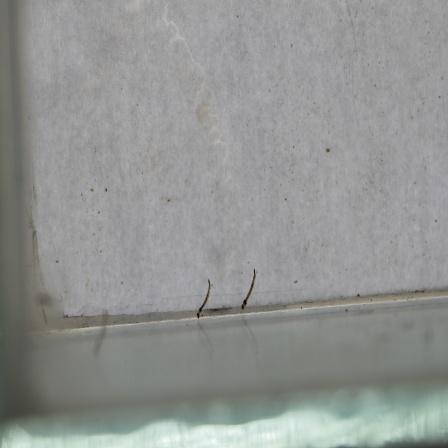Jentik-Nyamuk: (238, 266, 261, 313), (193, 277, 216, 323)
